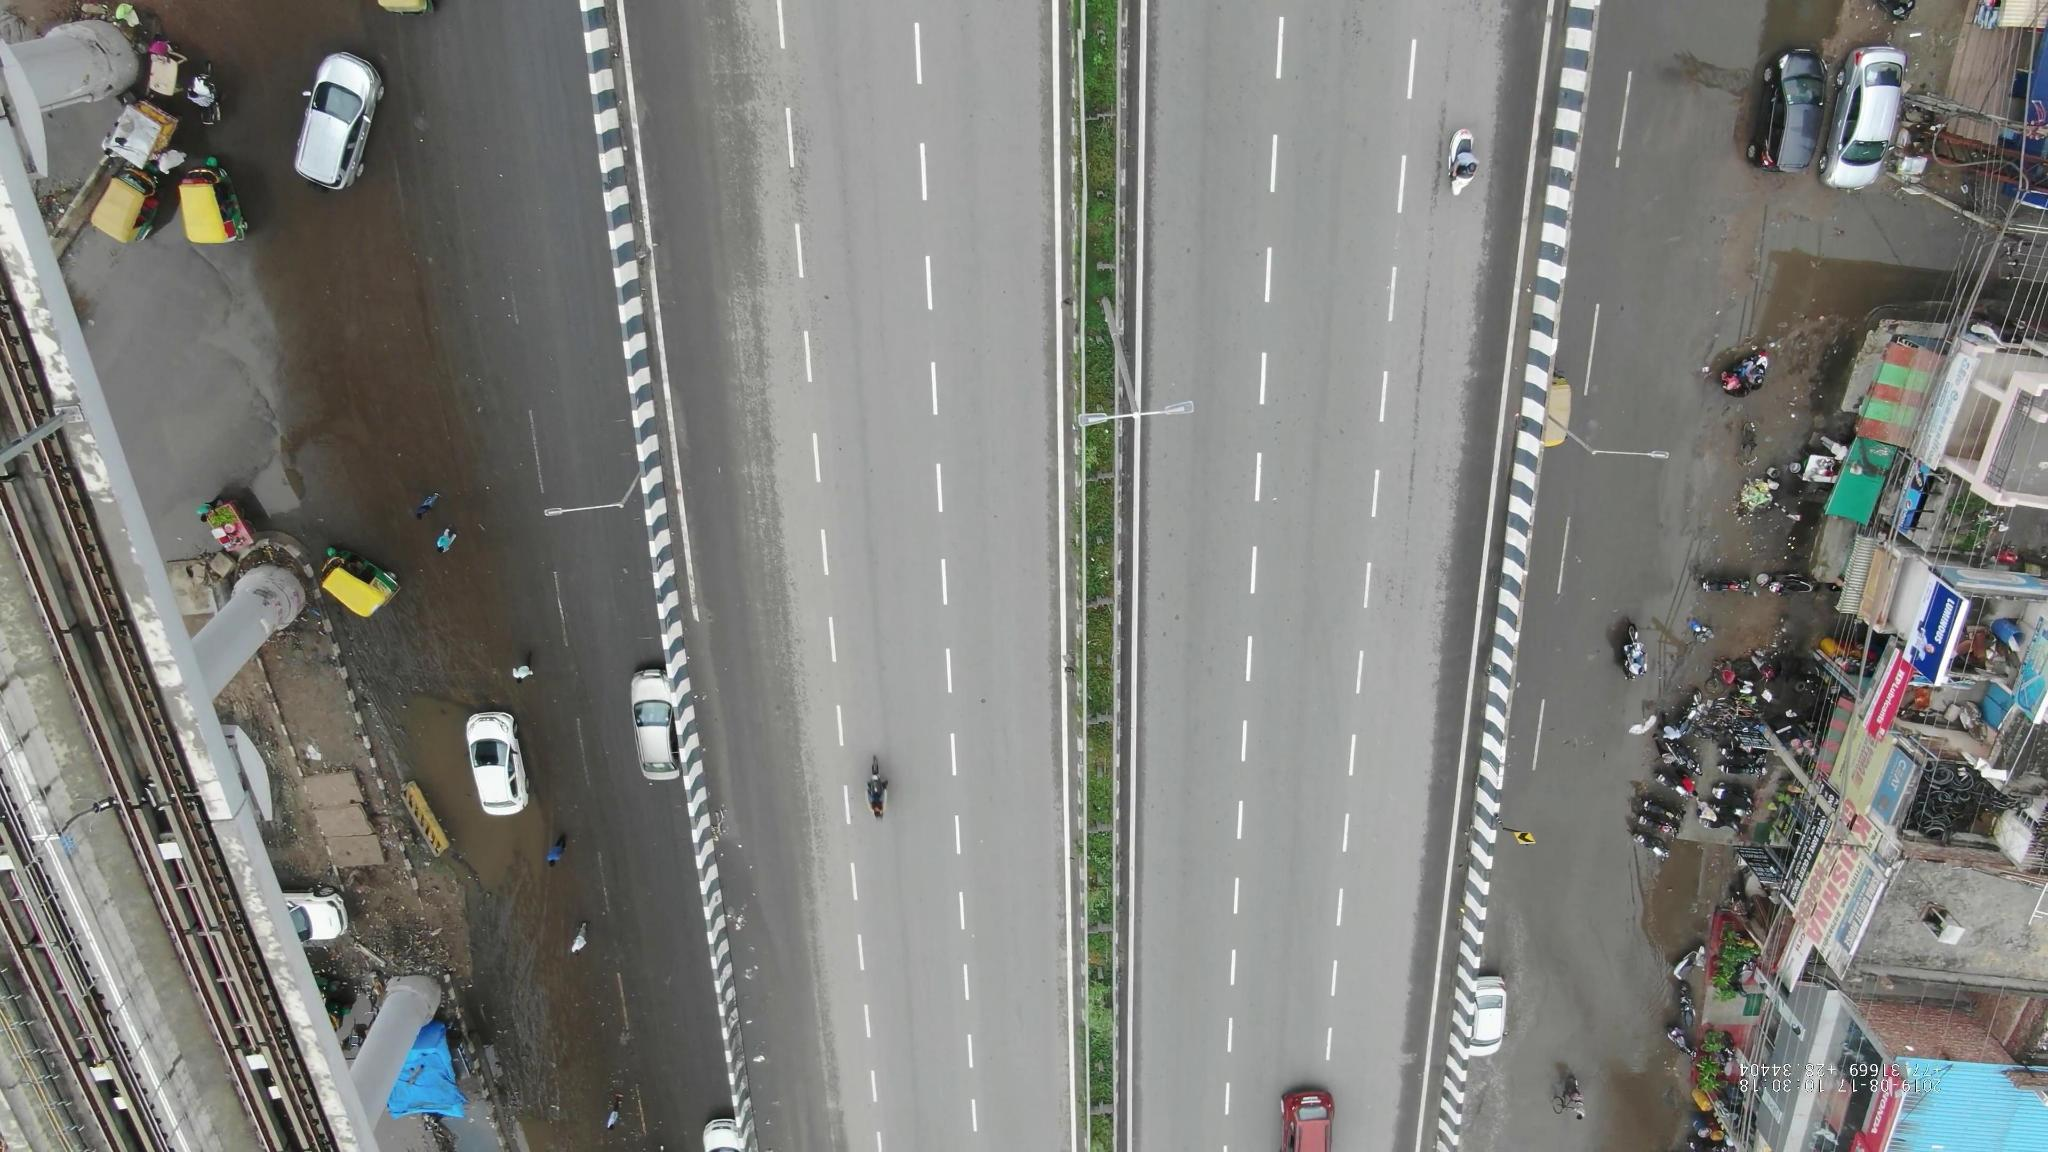Muddy_road: (288, 252, 454, 480)
Waterlogging: (416, 712, 582, 1083), (1599, 864, 1684, 1128), (1762, 200, 1959, 295)
